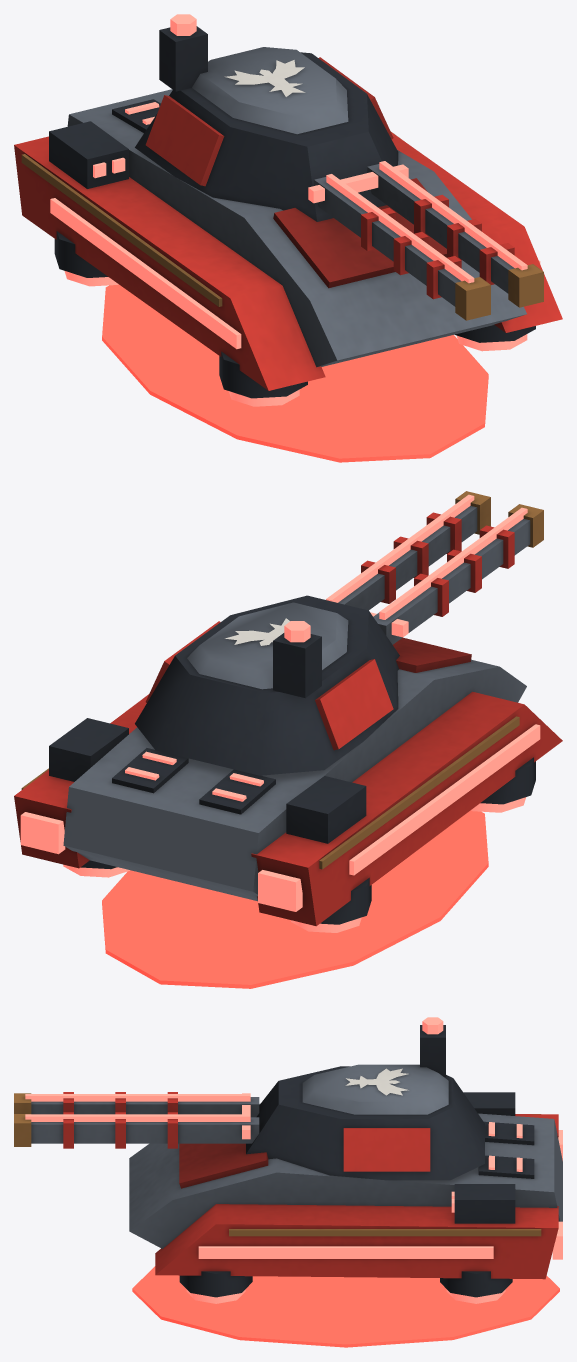
The model's file is assault_dl8_red.glb.
The picture shows the model from 3 angles, top to bottom: view 1: azimuth 30°, elevation 25°; view 2: azimuth 150°, elevation 25°; view 3: azimuth 270°, elevation 25°; orthographic projection. The views are drawn at different scales.
Visible parts, largest first — view 1: assault_dl8_red; view 2: assault_dl8_red; view 3: assault_dl8_red.
Boxes of the visible parts, bbox=[...] form: assault_dl8_red: bbox=[14, 14, 562, 462]; assault_dl8_red: bbox=[14, 491, 562, 988]; assault_dl8_red: bbox=[14, 1017, 562, 1347].
Bounding box in the file's own units: 0.324 × 0.316 × 0.633.
Materials: 3 (1 with a texture image).
